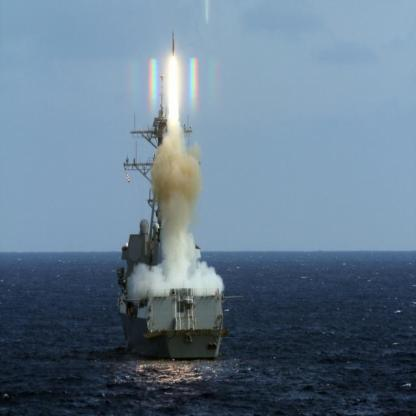MIL_TBM: (171, 28, 176, 59)
